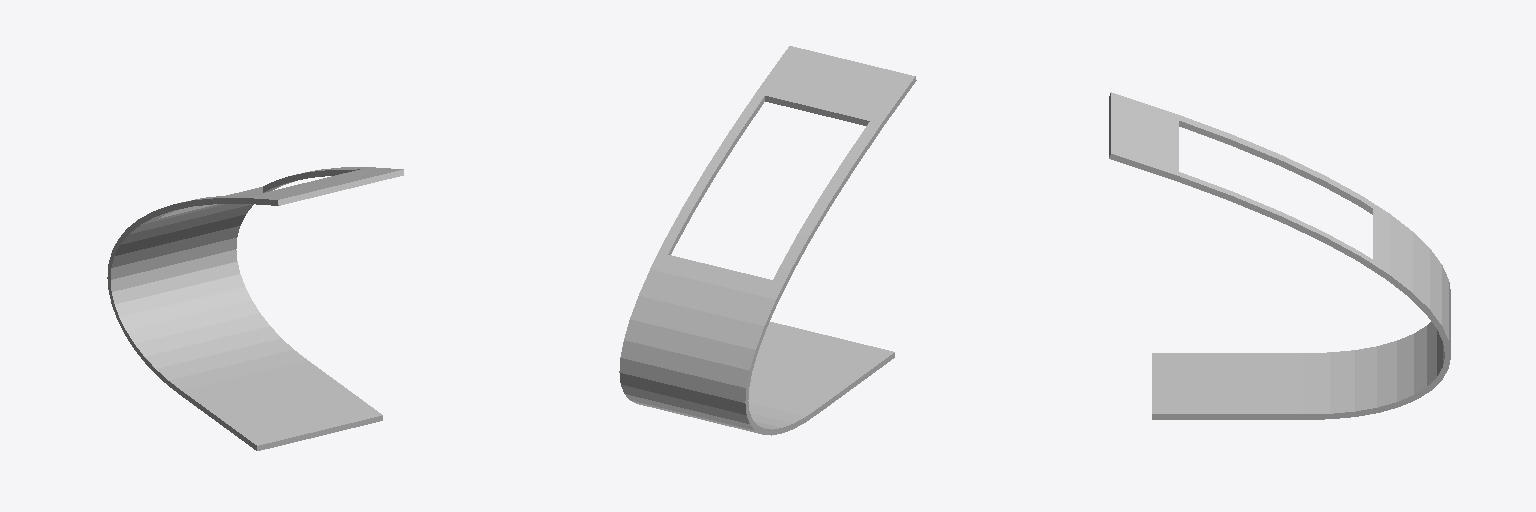
File: desk1.obj
3 views of the same model, side by side, from view 1: azimuth 30°, elevation 25°; view 2: azimuth 150°, elevation 25°; view 3: azimuth 270°, elevation 25° (orthographic).
Visible parts, largest first — view 1: Mesh1 Difference Model; view 2: Mesh1 Difference Model; view 3: Mesh1 Difference Model.
Part boxes in pixels (x1,y1,x2,y2): Mesh1 Difference Model: (107,167,403,450); Mesh1 Difference Model: (619,46,916,435); Mesh1 Difference Model: (1109,92,1450,419).
Bounding box in the file's own units: 3 × 6.06 × 7.06.